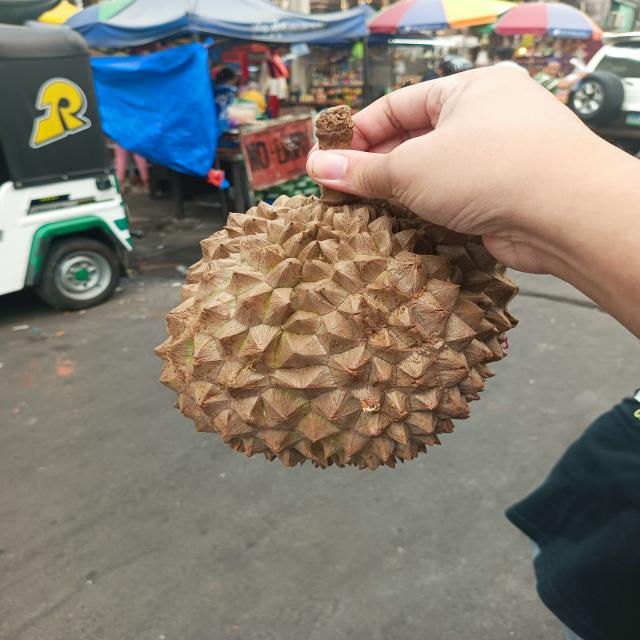mature: (155, 195, 518, 469)
